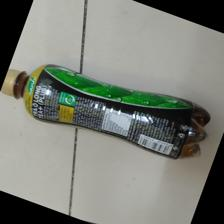Olong: (1, 59, 217, 163)
